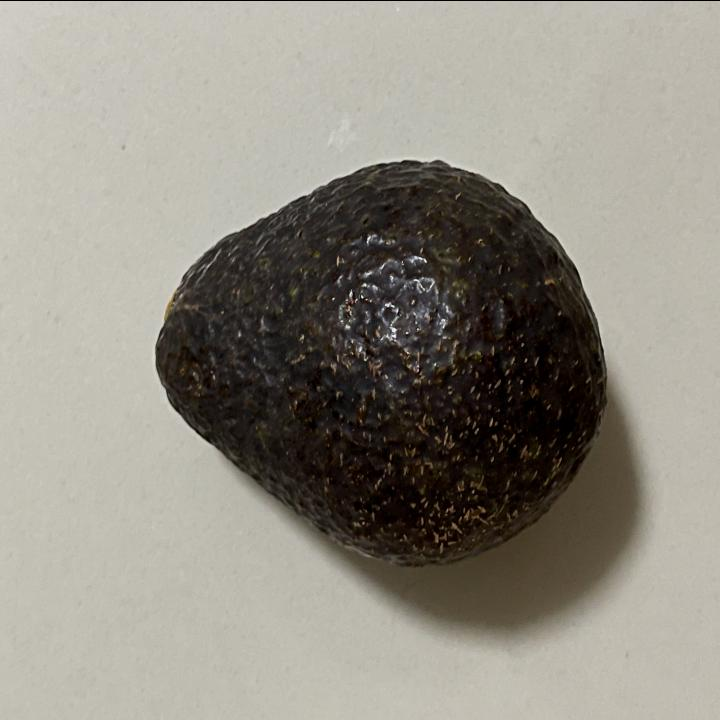Level2: (146, 146, 614, 574)
